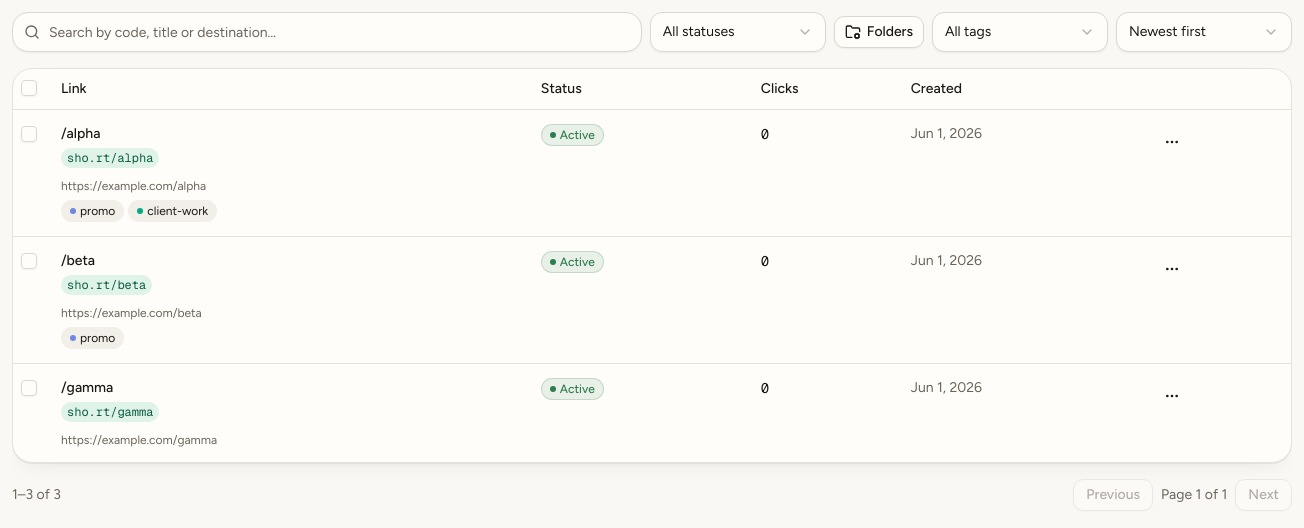
Scenario: LinksTable tags › lists every tag in the dropdown plus 'All tags'
The width and height of the screenshot is (1304, 528).
Click the dropdown named "Filter by tag" at (1020, 32), box x1=932 y1=12 x2=1108 y2=52
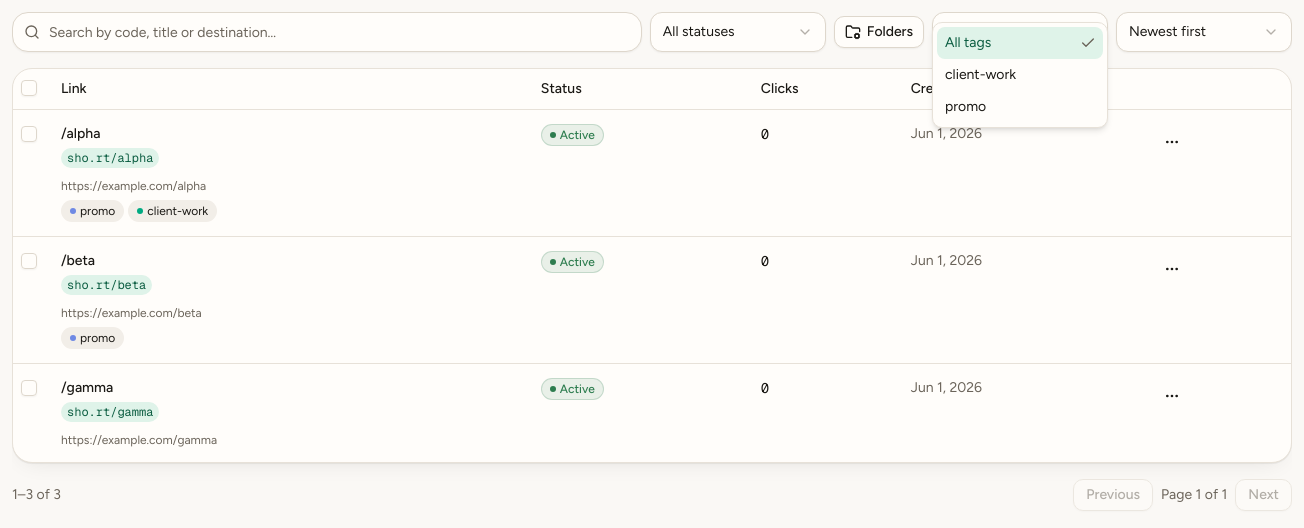
Expected: the options read "All tags", "client-work", "promo", in this order, x1=937 y1=27 x2=1103 y2=59; x1=945 y1=66 x2=1016 y2=83; x1=945 y1=98 x2=986 y2=115
